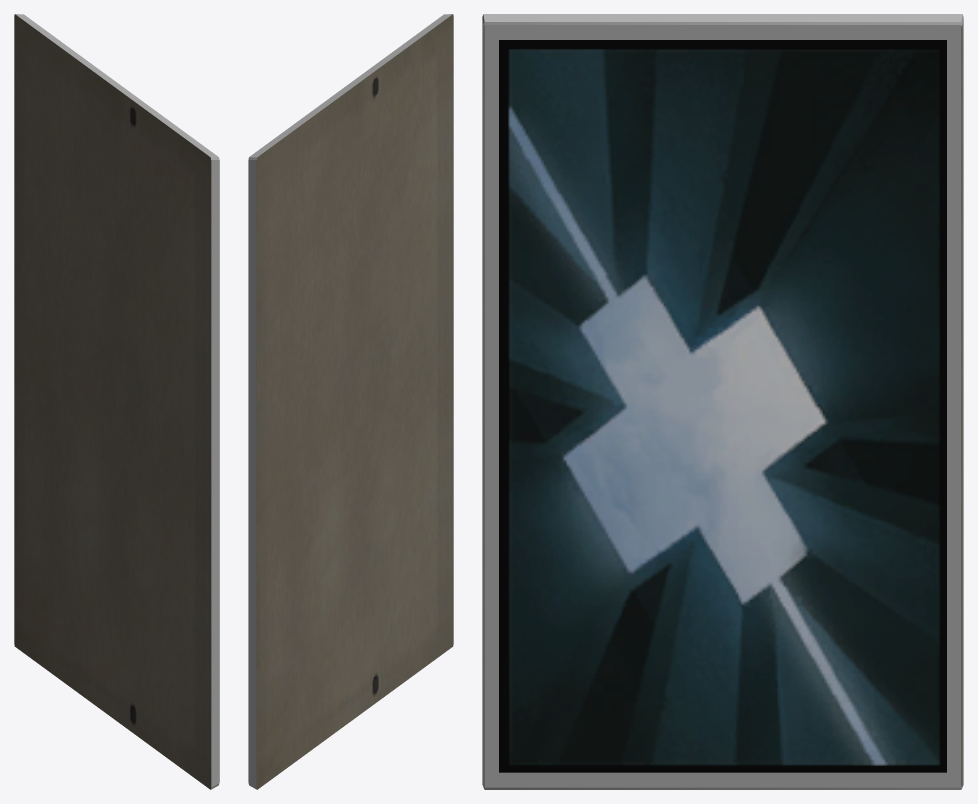
The model's file is pictureframe_painting_tall_12_LOD0.obj.
3 views of the same model, side by side, from view 1: azimuth 30°, elevation 25°; view 2: azimuth 150°, elevation 25°; view 3: azimuth 270°, elevation 25° (orthographic). The views are drawn at different scales.
Parts seen in each view (by area): view 1: mtl_accessories_frame2_back, mtl_pictureframe_large_gray; view 2: mtl_accessories_frame2_back, mtl_pictureframe_large_gray; view 3: mtl_pictureframes_painting_modern_set_1, mtl_pictureframe_large_gray, mtl_accessories_frame2_back.
Boxes of the visible parts, bbox=[...] form: mtl_accessories_frame2_back: bbox=[14, 14, 211, 789]; mtl_pictureframe_large_gray: bbox=[15, 14, 219, 789]; mtl_accessories_frame2_back: bbox=[256, 14, 453, 789]; mtl_pictureframe_large_gray: bbox=[248, 14, 452, 789]; mtl_pictureframes_painting_modern_set_1: bbox=[499, 40, 946, 772]; mtl_pictureframe_large_gray: bbox=[482, 14, 963, 789]; mtl_accessories_frame2_back: bbox=[483, 25, 962, 786].
Bounding box in the file's own units: 3.78 × 244 × 138.
